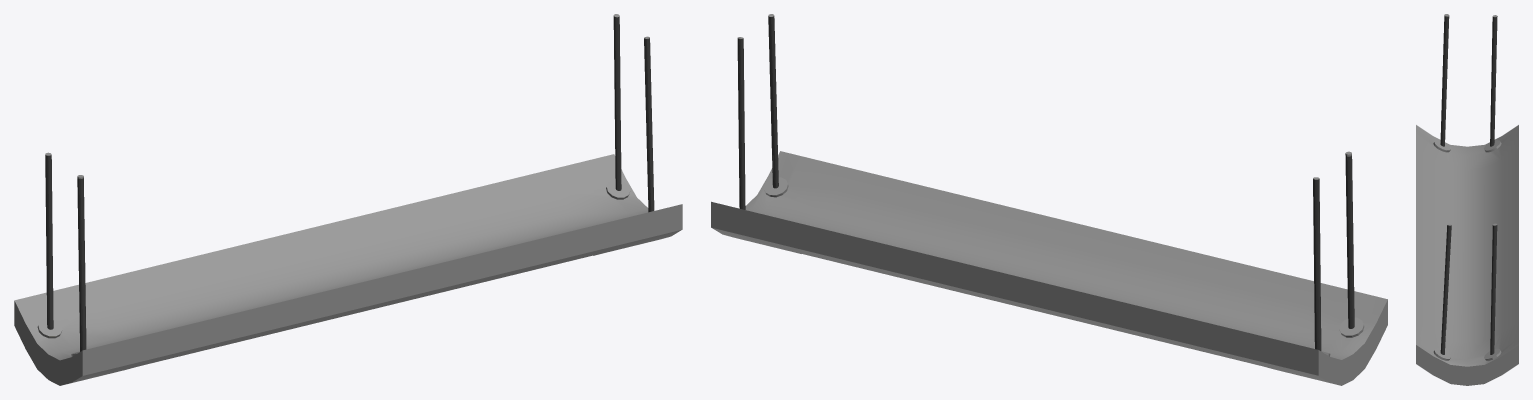
Rendered from LightFixture.fbx.
3 views of the same model, side by side, from view 1: azimuth 30°, elevation 25°; view 2: azimuth 150°, elevation 25°; view 3: azimuth 270°, elevation 25° (orthographic). The views are drawn at different scales.
Visible parts, largest first — view 1: LightFixture; view 2: LightFixture; view 3: LightFixture.
Part boxes in pixels (<box>): LightFixture: <box>14,14,682,385</box>; LightFixture: <box>711,14,1387,385</box>; LightFixture: <box>1416,14,1518,385</box>.
Bounding box in the file's own units: 46.91 × 15.67 × 9.26.
